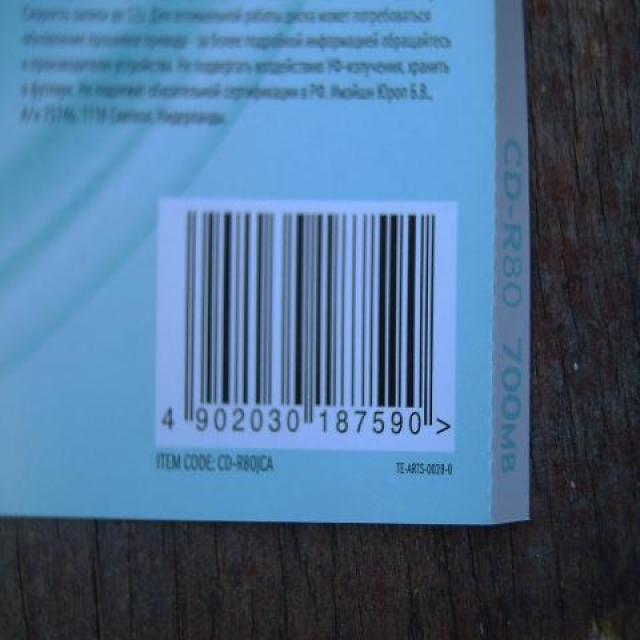Barcode: (155, 197, 458, 453)
